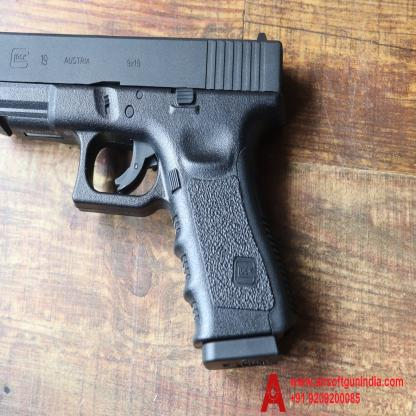handgun: (0, 16, 318, 379)
